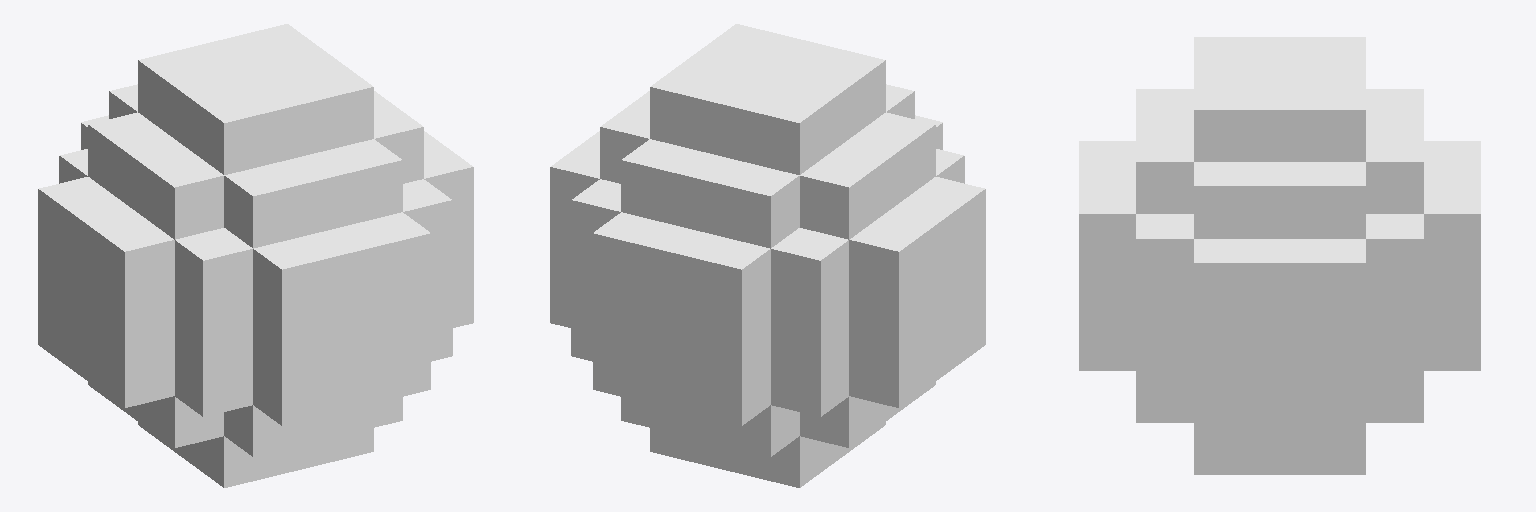
File: Projectile_Moto_Presente.obj
The picture shows the model from 3 angles: view 1: azimuth 30°, elevation 25°; view 2: azimuth 150°, elevation 25°; view 3: azimuth 270°, elevation 25°; orthographic projection.
Parts seen in each view (by area): view 1: object 1; view 2: object 1; view 3: object 1.
Part boxes in pixels (bbox=[...]): object 1: bbox=[38, 24, 473, 487]; object 1: bbox=[550, 24, 985, 487]; object 1: bbox=[1079, 37, 1480, 474].
Size of the model in its own units: 0.7 by 0.7 by 0.7.